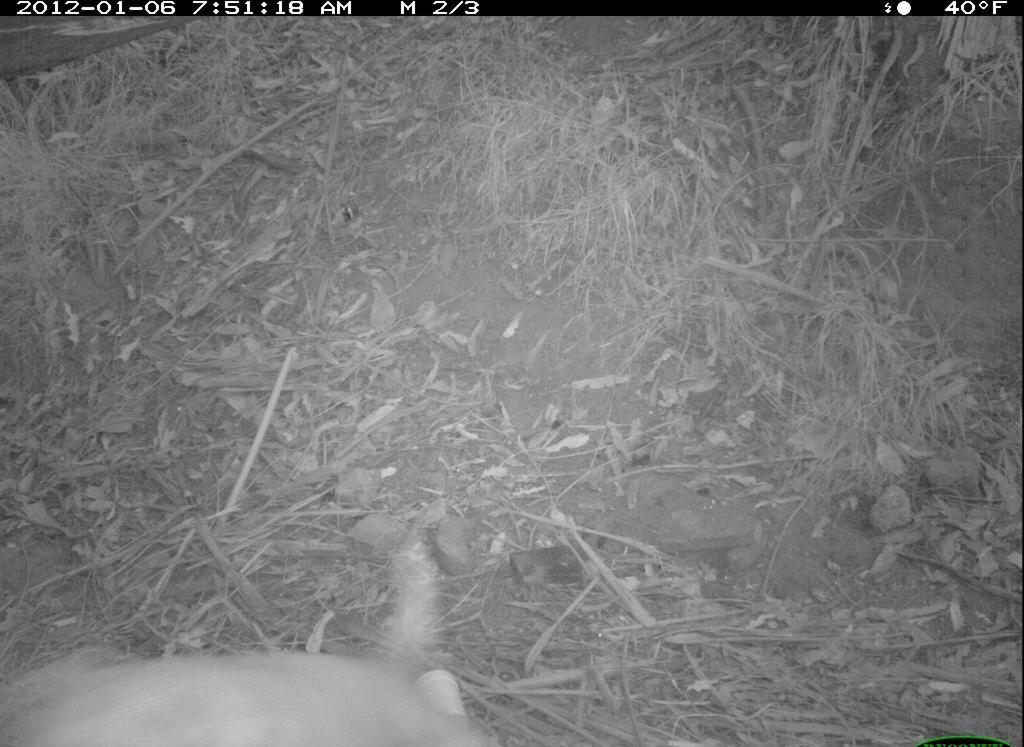dog: (3, 542, 502, 745)
